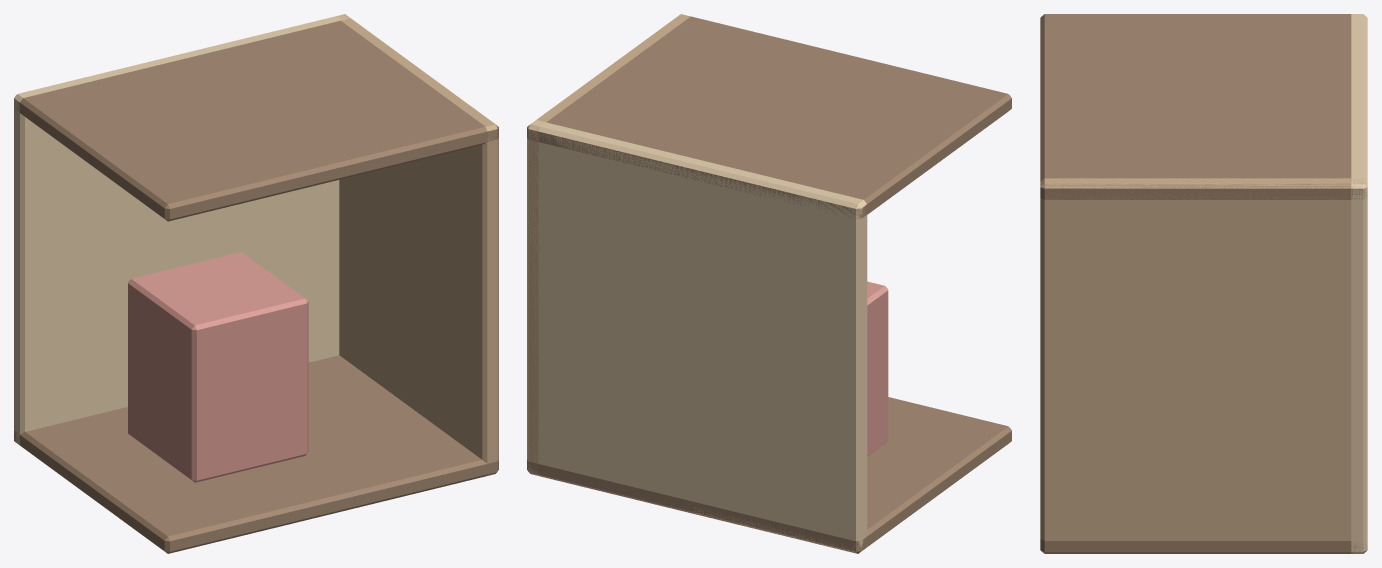
File: Corner_1x1.glb
The picture shows the model from 3 angles, left to right: view 1: azimuth 30°, elevation 25°; view 2: azimuth 150°, elevation 25°; view 3: azimuth 270°, elevation 25°; orthographic projection. The views are drawn at different scales.
Visible parts, largest first — view 1: SpaceSaver_WallSys_Corner_1x1; view 2: SpaceSaver_WallSys_Corner_1x1; view 3: SpaceSaver_WallSys_Corner_1x1.
Boxes of the visible parts, x1=… form: SpaceSaver_WallSys_Corner_1x1: x1=14, y1=14, x2=498, y2=553; SpaceSaver_WallSys_Corner_1x1: x1=527, y1=14, x2=1011, y2=553; SpaceSaver_WallSys_Corner_1x1: x1=1040, y1=14, x2=1367, y2=553.
Size of the model in its own units: 0.4 by 0.4 by 0.32.
